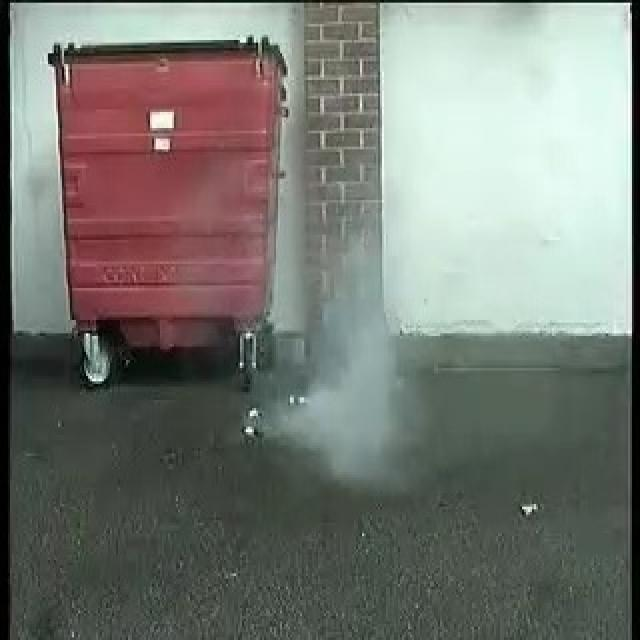smoke: (281, 276, 384, 474)
